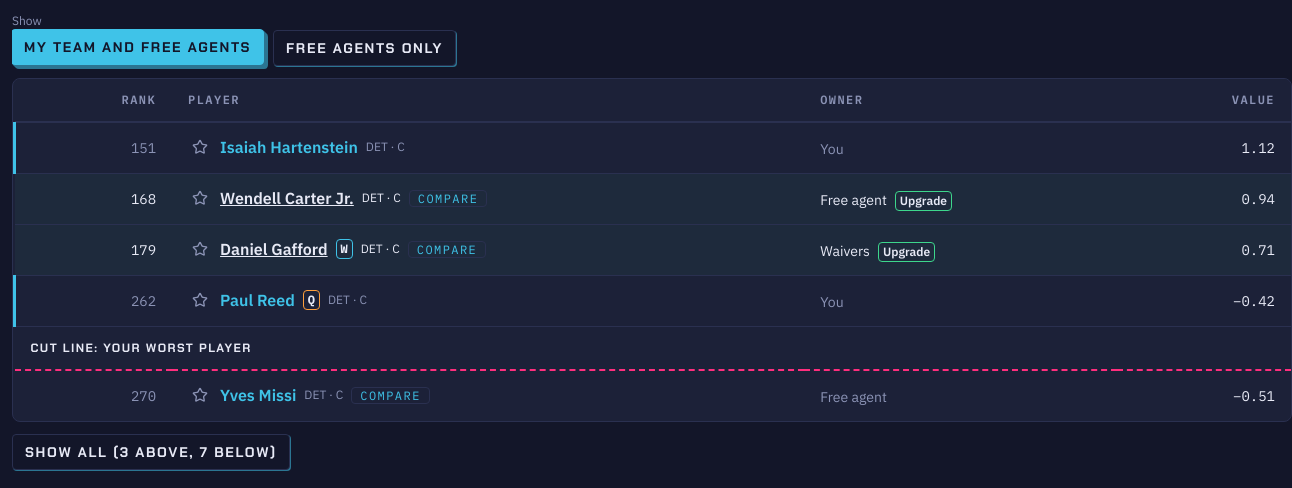
Test: CutLinePanel sorting › sorts the rank column from the top down first
Step 1. Click the button "Rank" → (131, 100), box [106, 91, 156, 109]
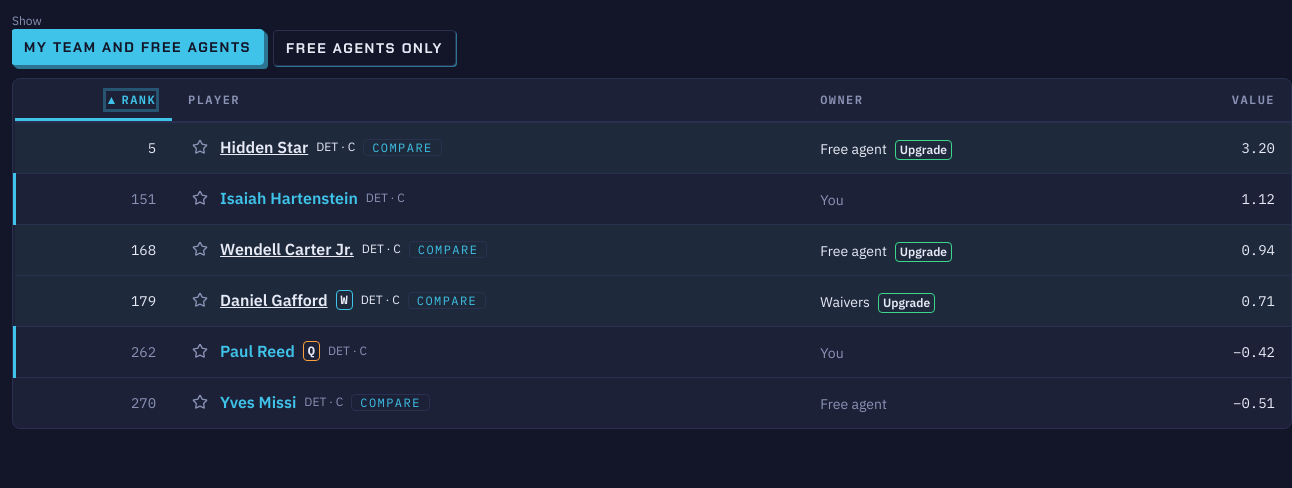
Expected: the link "Hidden Star" is shown, [220, 135, 308, 159]
